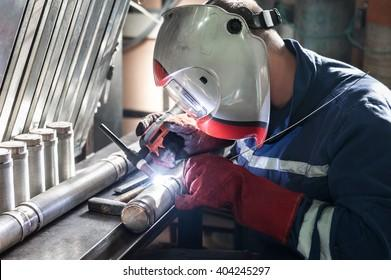gloves: (175, 154, 303, 246), (136, 112, 234, 168)
